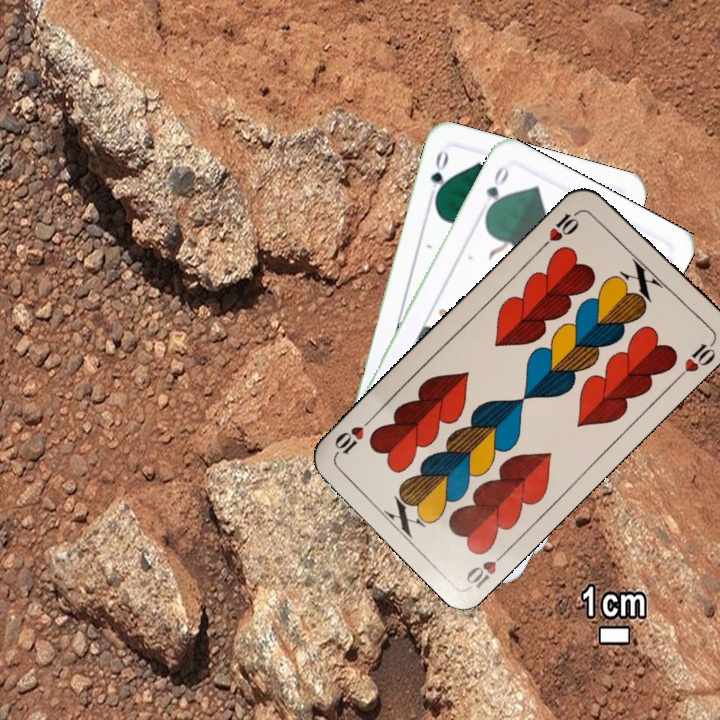GO: (481, 162, 512, 218), (424, 146, 451, 205)
H10: (461, 544, 512, 593), (537, 206, 584, 251)
